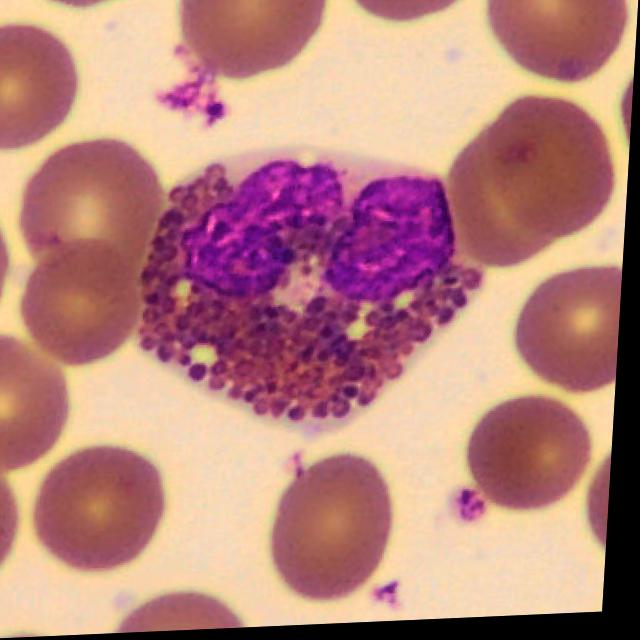Eosinofilo: (142, 152, 487, 427)
